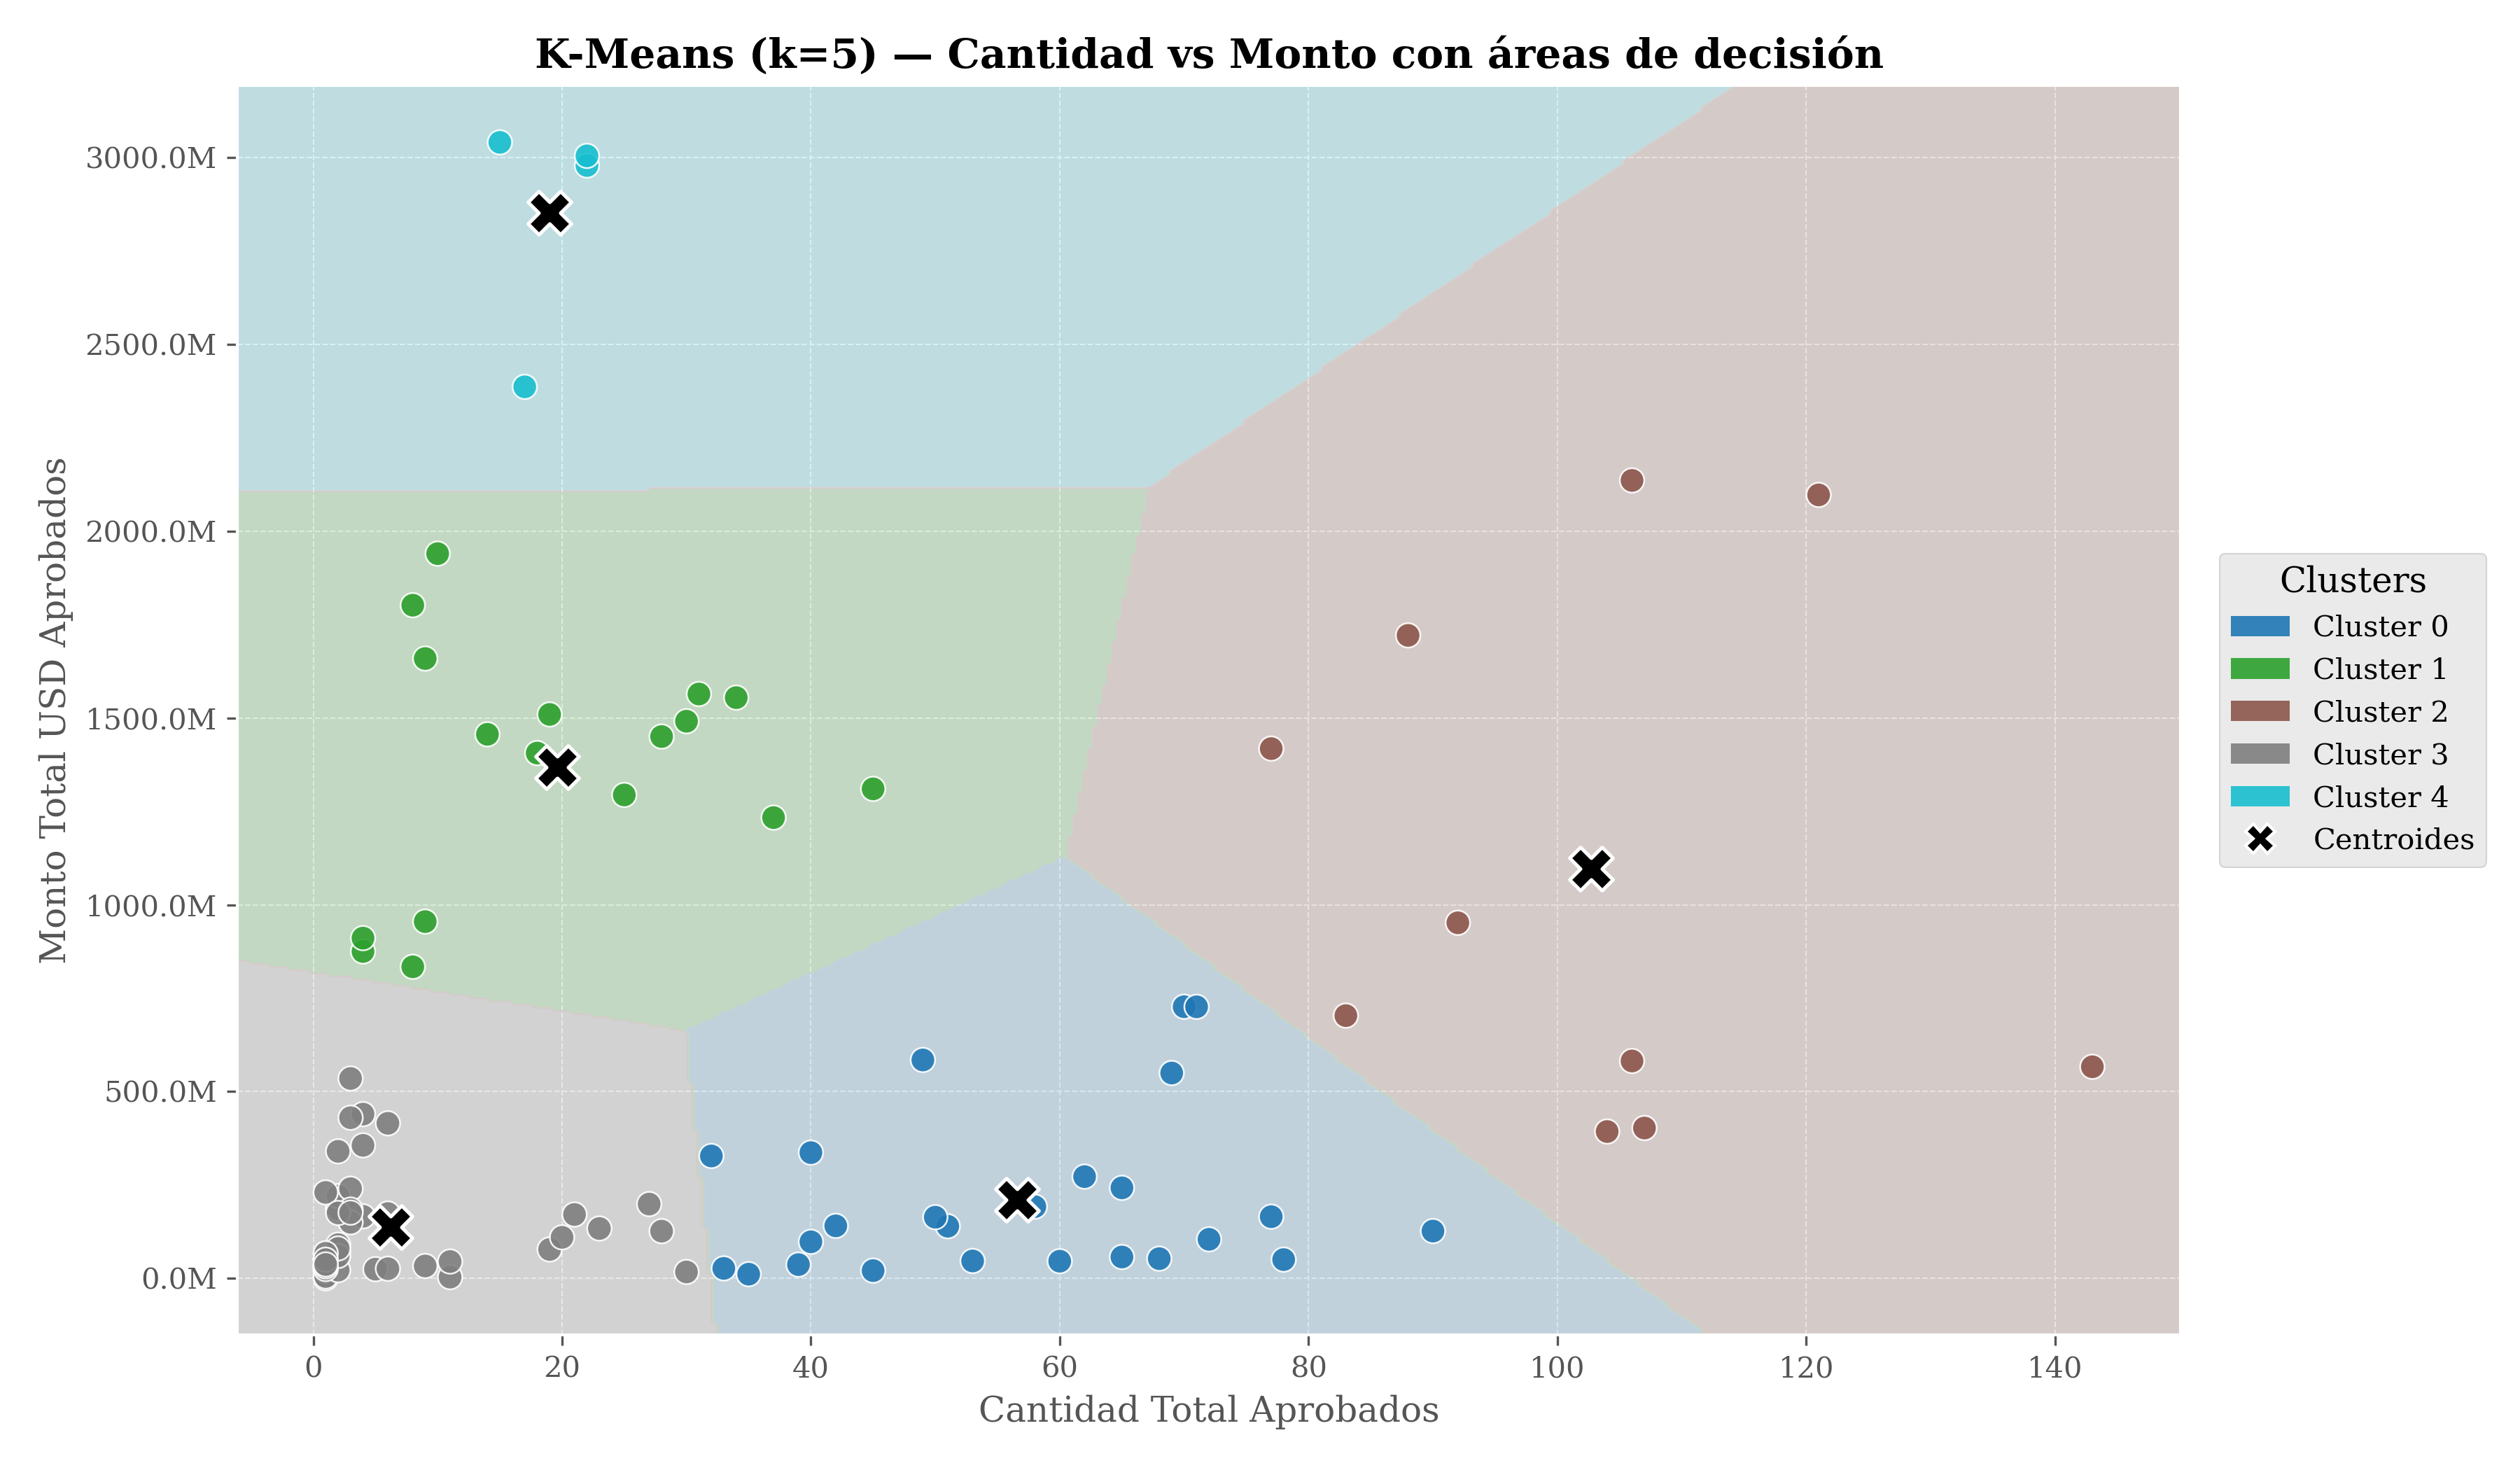

Layout of this report page (visuals, bound fields, positions):
{"tool":"powerbi","page":{"name":"Página 3","canvas":[1280,720],"ordinal":2},"visuals":[{"type":"scatterChart","fields":{"Category":["Resumen.Índice"],"X":["Avg(Resumen.Cantidad Total Aprobados)"],"Y":["Avg(Resumen.Aprobación Promedio)"]},"box":[10,0,1270,720],"z":0}]}

Visuals, with their boxes on the page's 1280x720 design canvas (x1, y1, x2, y2). These are canvas units, not pixel positions in the 2520x1470 screenshot, which may show the page scaled, cropped or inside an application window:
scatterChart - Resumen.Índice x Avg(Resumen.Cantidad Total Aprobados): bbox(10, 0, 1280, 720)
